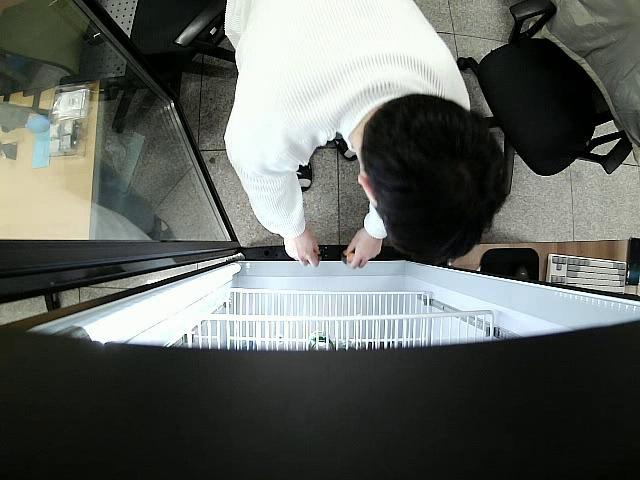17_vita500: (342, 249, 356, 263)
